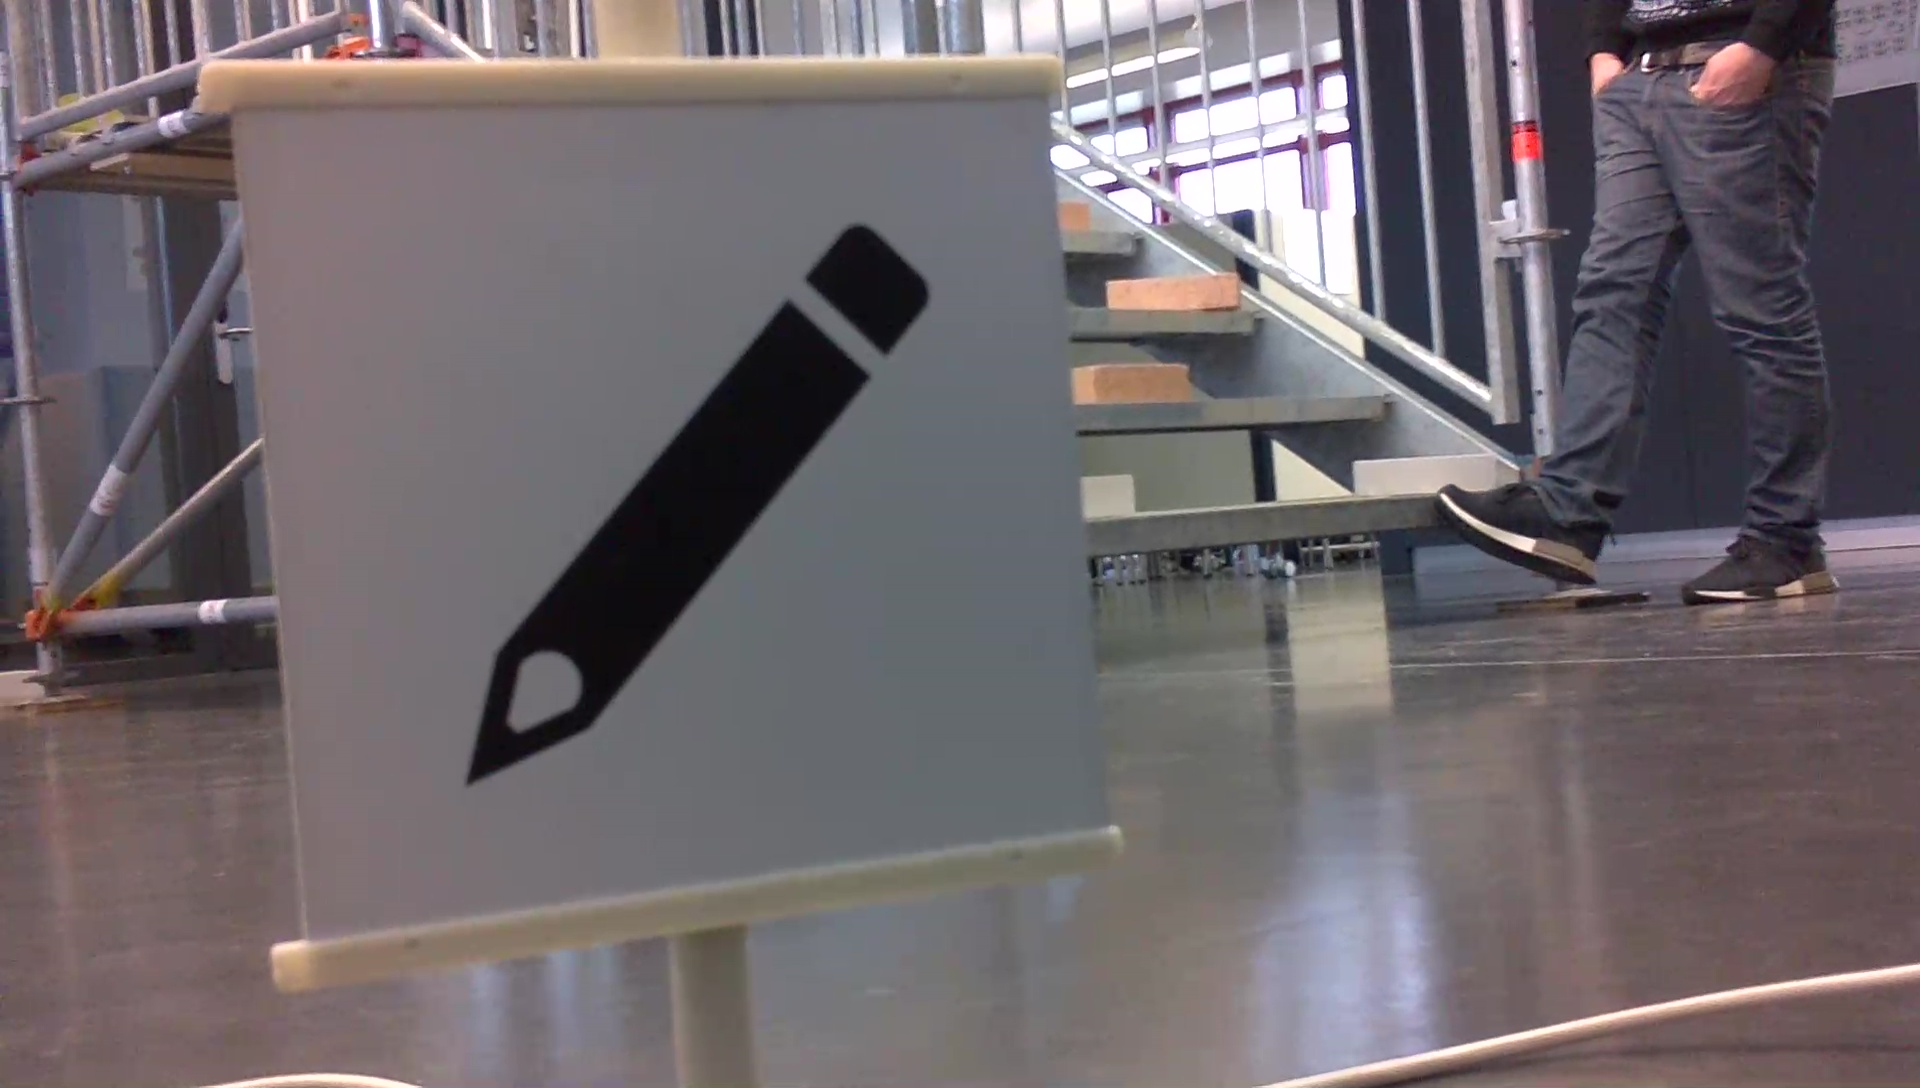brick: (1357, 454, 1495, 491), (1106, 274, 1237, 310), (1071, 363, 1185, 400), (1080, 472, 1131, 516), (1058, 203, 1089, 229)
edge: (1072, 396, 1393, 430), (1068, 305, 1267, 332), (1063, 228, 1149, 251)
pencil: (440, 203, 944, 803)
